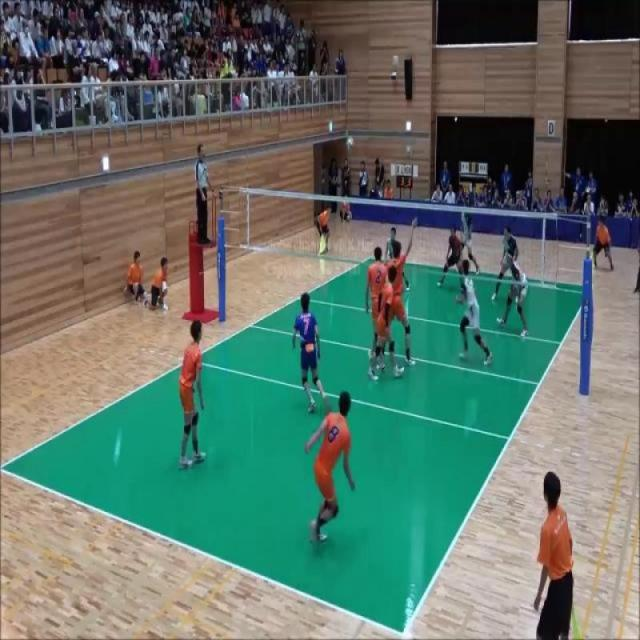volleyball: (346, 136, 354, 152)
